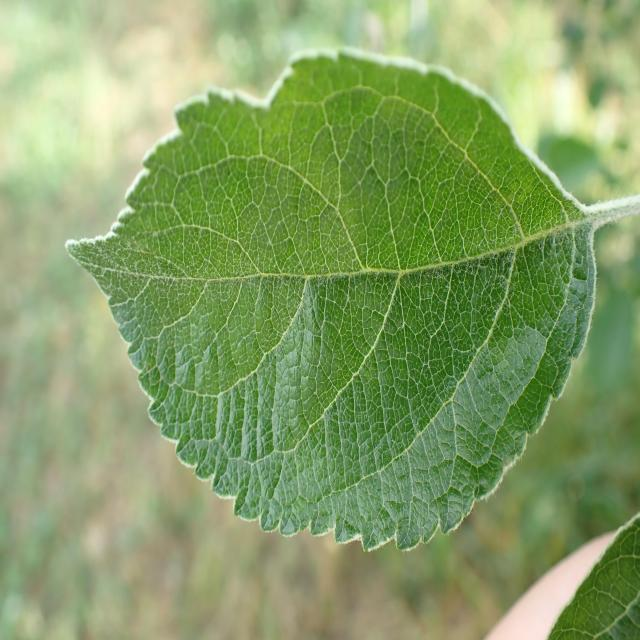healthy: (64, 48, 596, 552), (546, 512, 640, 640)
